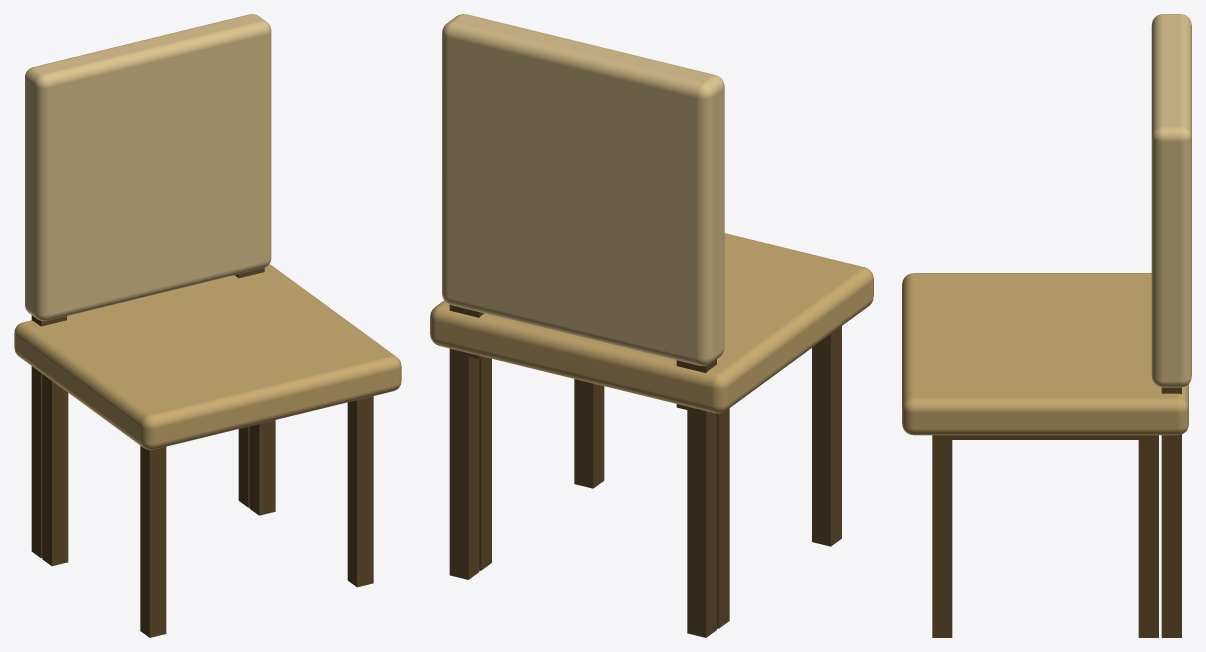
3 views of the same model, side by side, from view 1: azimuth 30°, elevation 25°; view 2: azimuth 150°, elevation 25°; view 3: azimuth 270°, elevation 25° (orthographic). The views are drawn at different scales.
Parts seen in each view (by area): view 1: chair-back, chair-seat, ladder-leg-left-front, ladder-leg-right-front, ladder-leg-left-rear, ladder-leg-right-rear, ladder-upright-left, ladder-upright-right; view 2: chair-back, chair-seat, ladder-upright-right, ladder-upright-left, ladder-leg-left-front, ladder-leg-right-front, ladder-leg-left-rear, ladder-leg-right-rear; view 3: chair-seat, chair-back, ladder-upright-right, ladder-leg-right-rear, ladder-leg-right-front, seat-support-rail.
Part boxes in pixels (<box>): chair-back: <box>25,14,271,321</box>; chair-seat: <box>14,264,401,450</box>; ladder-leg-left-front: <box>140,446,166,637</box>; ladder-leg-right-front: <box>347,396,373,587</box>; ladder-leg-left-rear: <box>42,374,68,566</box>; ladder-leg-right-rear: <box>249,420,275,515</box>; ladder-upright-left: <box>31,315,53,558</box>; ladder-upright-right: <box>238,267,264,507</box>; chair-back: <box>442,14,724,366</box>; chair-seat: <box>430,233,873,413</box>; ladder-upright-right: <box>449,305,479,579</box>; ladder-upright-left: <box>687,359,716,637</box>; ladder-leg-left-front: <box>812,326,841,546</box>; ladder-leg-right-front: <box>574,379,604,488</box>; ladder-leg-left-rear: <box>717,408,729,628</box>; ladder-leg-right-rear: <box>479,356,491,570</box>; chair-seat: <box>902,273,1188,435</box>; chair-back: <box>1151,14,1191,387</box>; ladder-upright-right: <box>1161,387,1181,637</box>; ladder-leg-right-rear: <box>1138,435,1158,637</box>; ladder-leg-right-front: <box>932,435,952,637</box>; seat-support-rail: <box>952,435,1138,439</box>.
Bounding box in the file's own units: 0.55 × 0.98 × 0.505.
